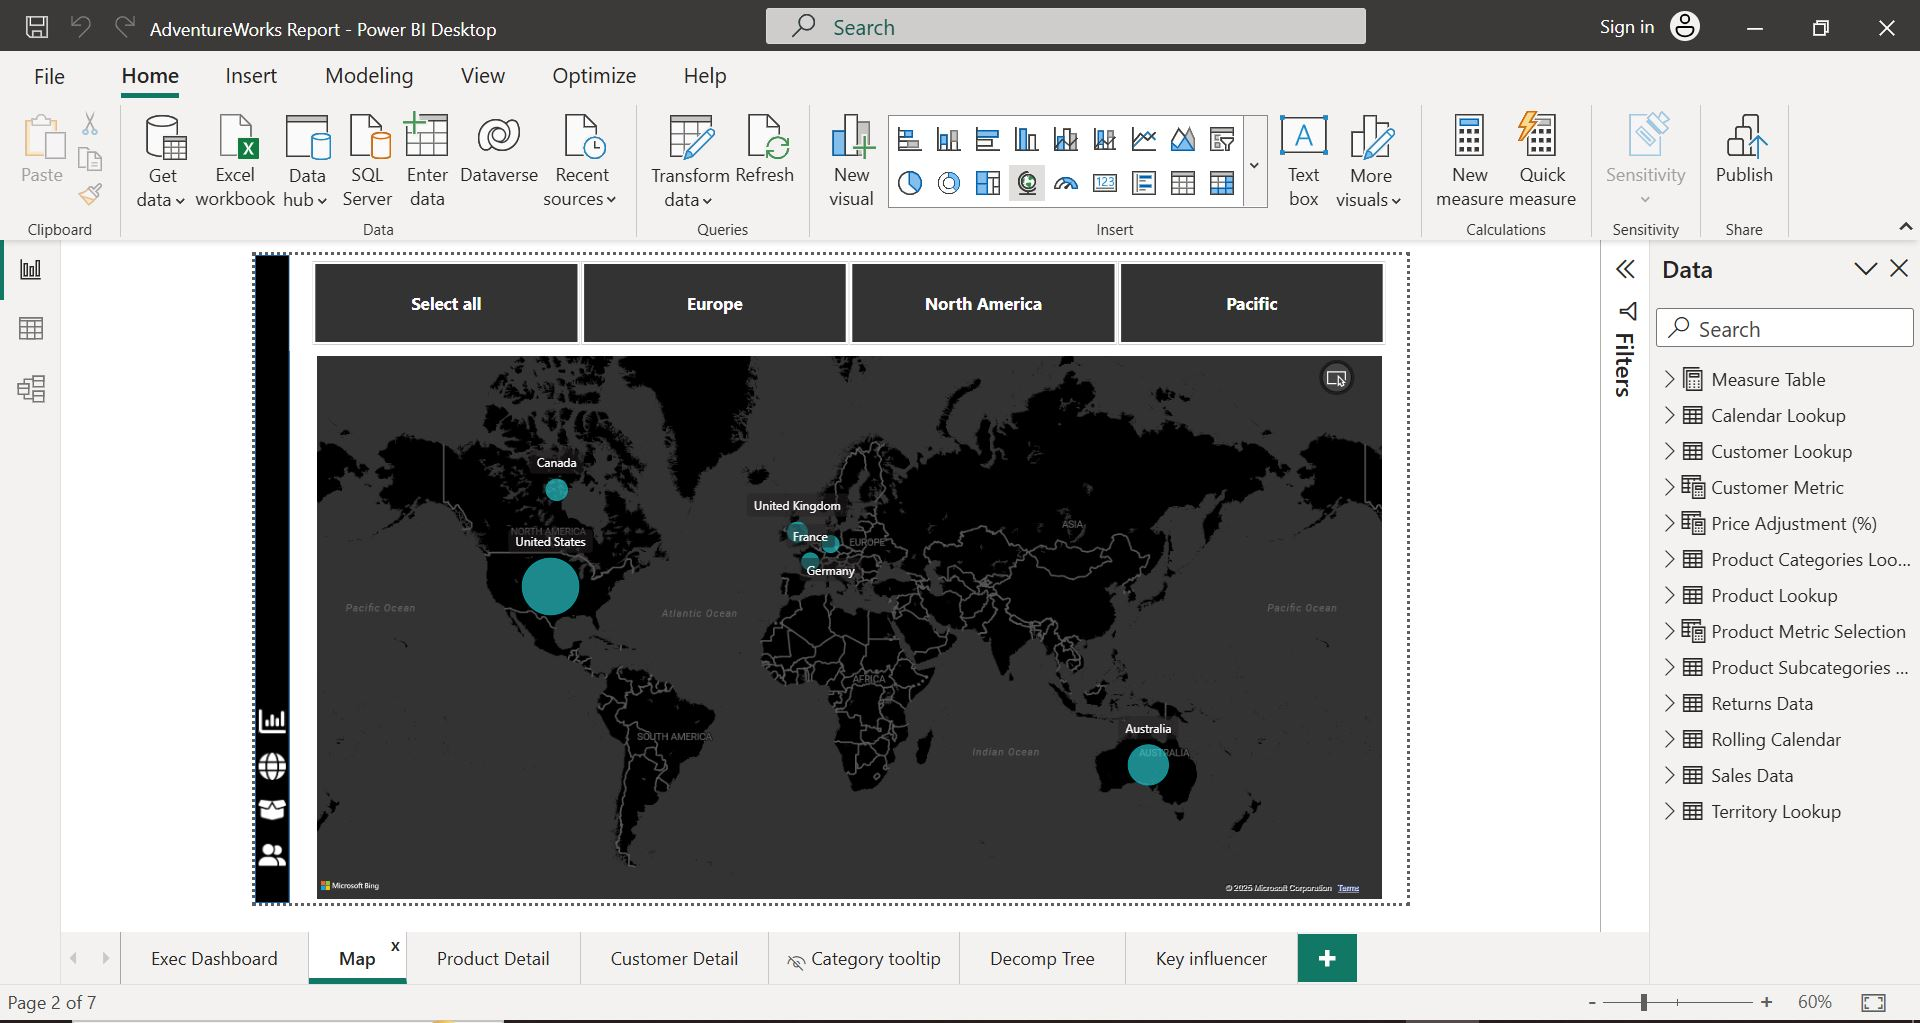

The page's visual inventory and layout, read from the dashboard file:
{"tool":"powerbi","page":{"name":"Map","canvas":[1280,720],"ordinal":1},"visuals":[{"type":"shape","box":[0,0,38.3,720],"z":0},{"type":"actionButton","box":[0.8,646.6,38.3,40],"z":0,"group":"g1"},{"type":"actionButton","box":[0.8,597.2,38.3,40],"z":1000,"group":"g1"},{"type":"map","fields":{"Category":["Territory Lookup.Country"],"Size":["Measure Table.Total Orders"]},"box":[63.6,106.5,1193.6,613.5],"z":1000},{"type":"slicer","fields":{"Values":["Territory Lookup.Continent"]},"box":[38.1,0,1241.3,106.5],"z":2000},{"type":"actionButton","box":[0.8,547.7,38.3,40],"z":2000,"group":"g1"},{"type":"actionButton","box":[0.8,498.3,38.3,40],"z":3000,"group":"g1"},{"type":"group","id":"g1","title":"Navigation Buttons","box":[0.8,498.3,38.3,188.3],"z":3000}]}

Visuals, with their boxes on the page's 1280x720 design canvas (x1, y1, x2, y2). These are canvas units, not pixel positions in the 1920x1023 screenshot, which may show the page scaled, cropped or inside an application window:
shape: 0,0,38,720
actionButton: 1,647,39,687
actionButton: 1,597,39,637
map - Territory Lookup.Country x Measure Table.Total Orders: 64,106,1257,720
slicer - Territory Lookup.Continent: 38,0,1279,106
actionButton: 1,548,39,588
actionButton: 1,498,39,538
"Navigation Buttons" group: 1,498,39,687
